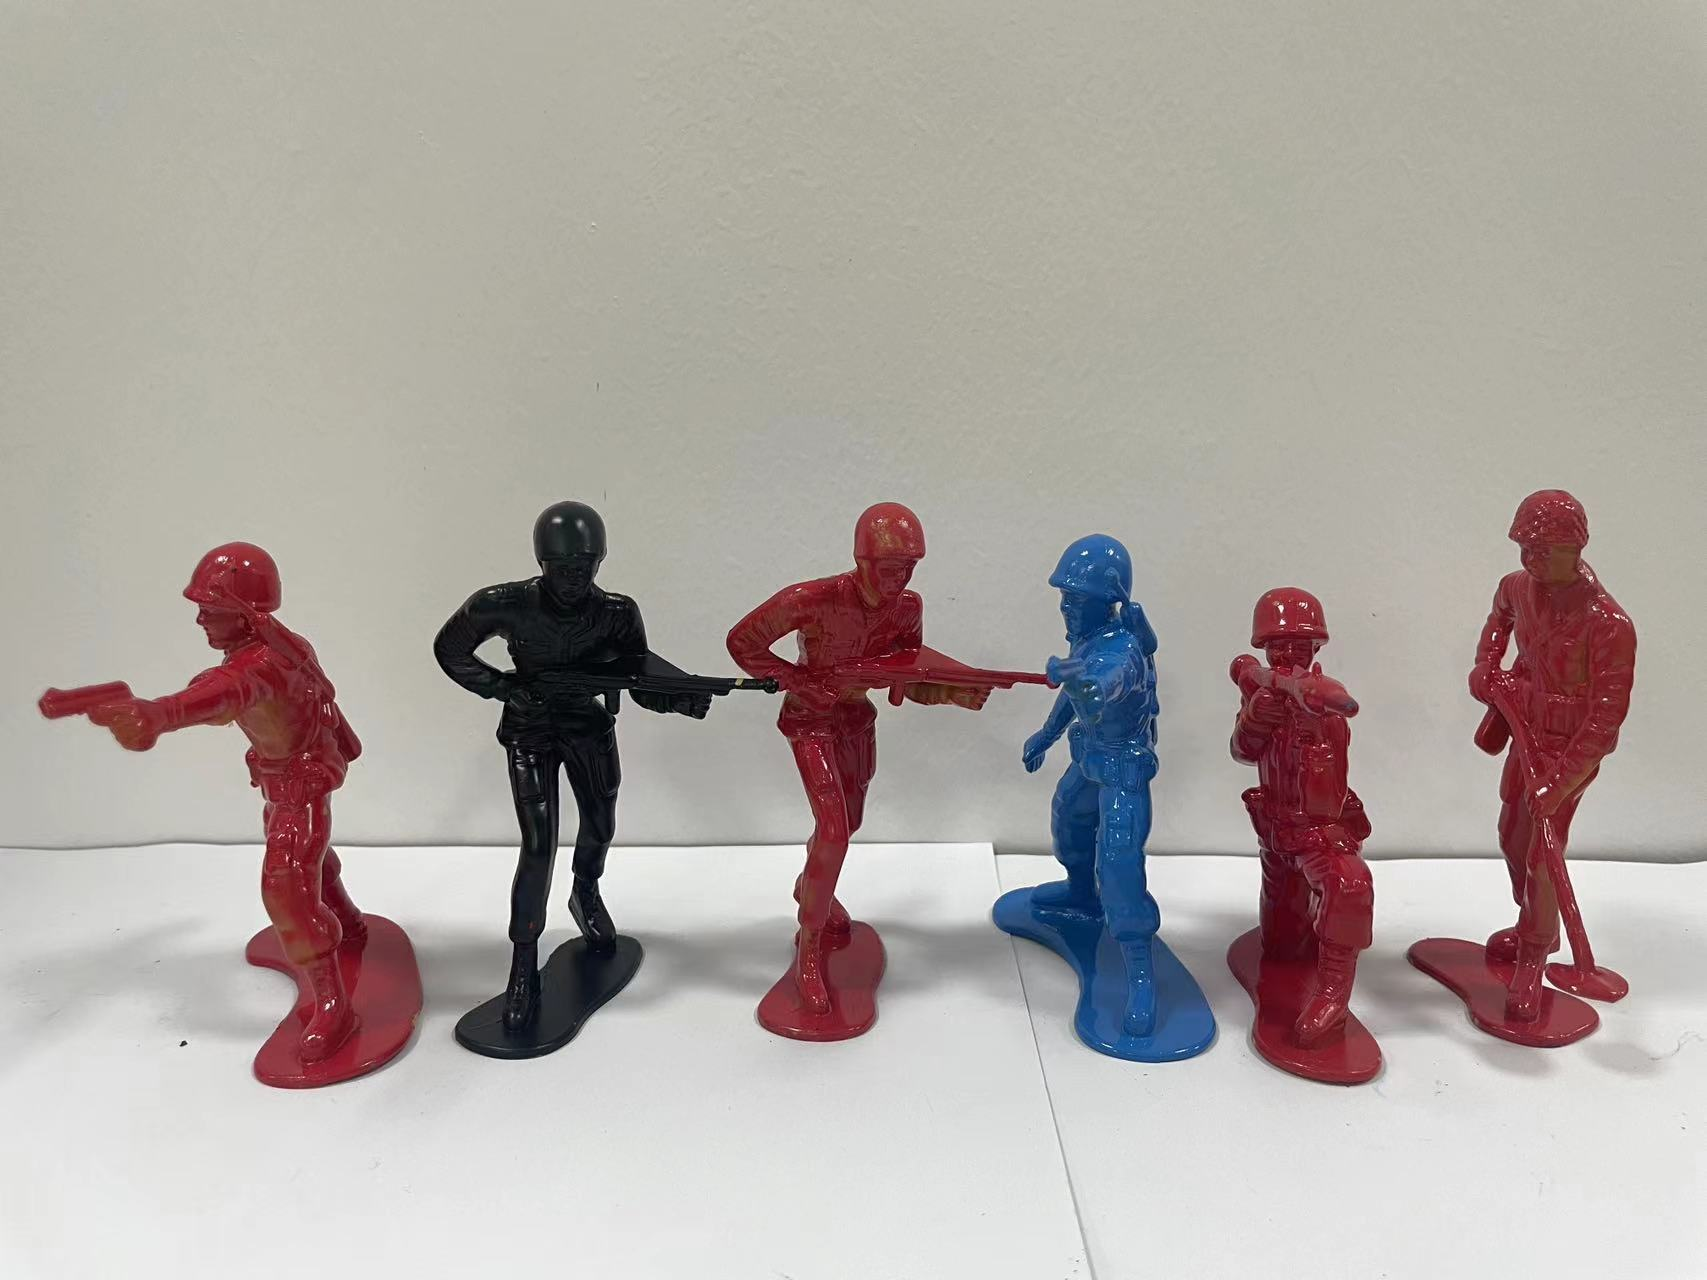black: (418, 457, 727, 1082)
blue: (1013, 516, 1212, 1121)
red: (40, 519, 423, 1155), (1398, 442, 1707, 1113), (718, 469, 1008, 1074), (1215, 563, 1413, 1137)
